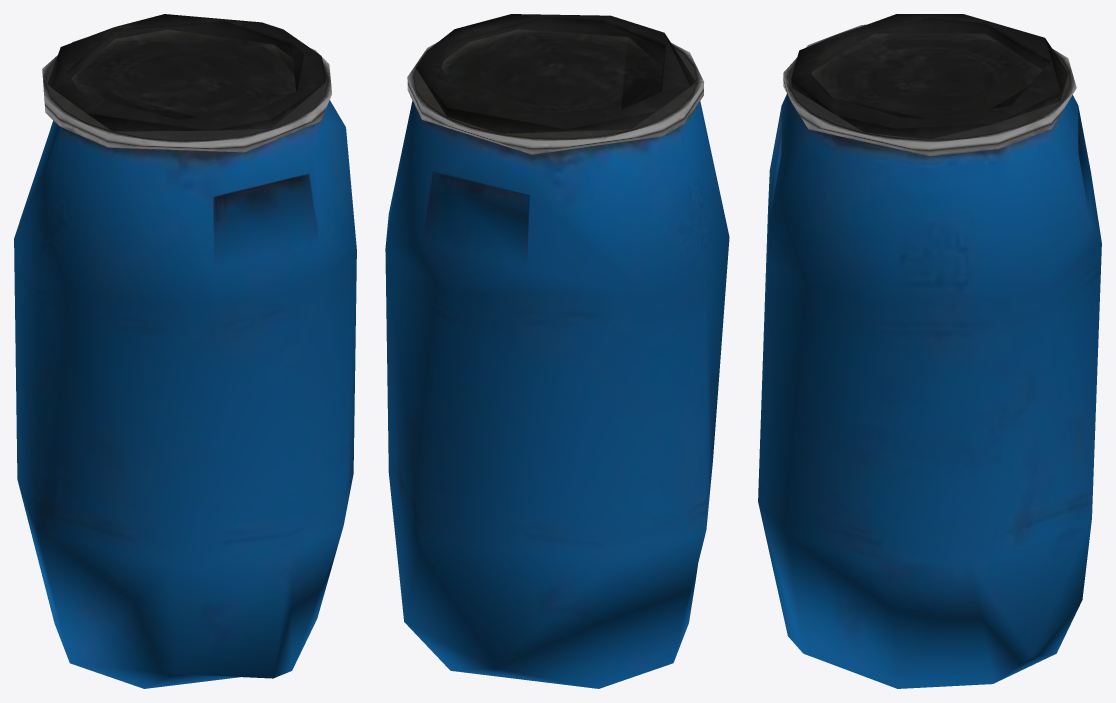
Rendered from p_barrel_2.glb.
The picture shows the model from 3 angles, left to right: view 1: azimuth 30°, elevation 25°; view 2: azimuth 150°, elevation 25°; view 3: azimuth 270°, elevation 25°; orthographic projection.
Parts seen in each view (by area): view 1: Barrel_02; view 2: Barrel_02; view 3: Barrel_02.
Part boxes in pixels (left/top/right/bottom): Barrel_02: left=14, top=14, right=356, bottom=688; Barrel_02: left=385, top=14, right=729, bottom=688; Barrel_02: left=758, top=14, right=1101, bottom=688.
Size of the model in its own units: 0.4811 by 0.88 by 0.4846.
Materials: 1 (1 with a texture image).
